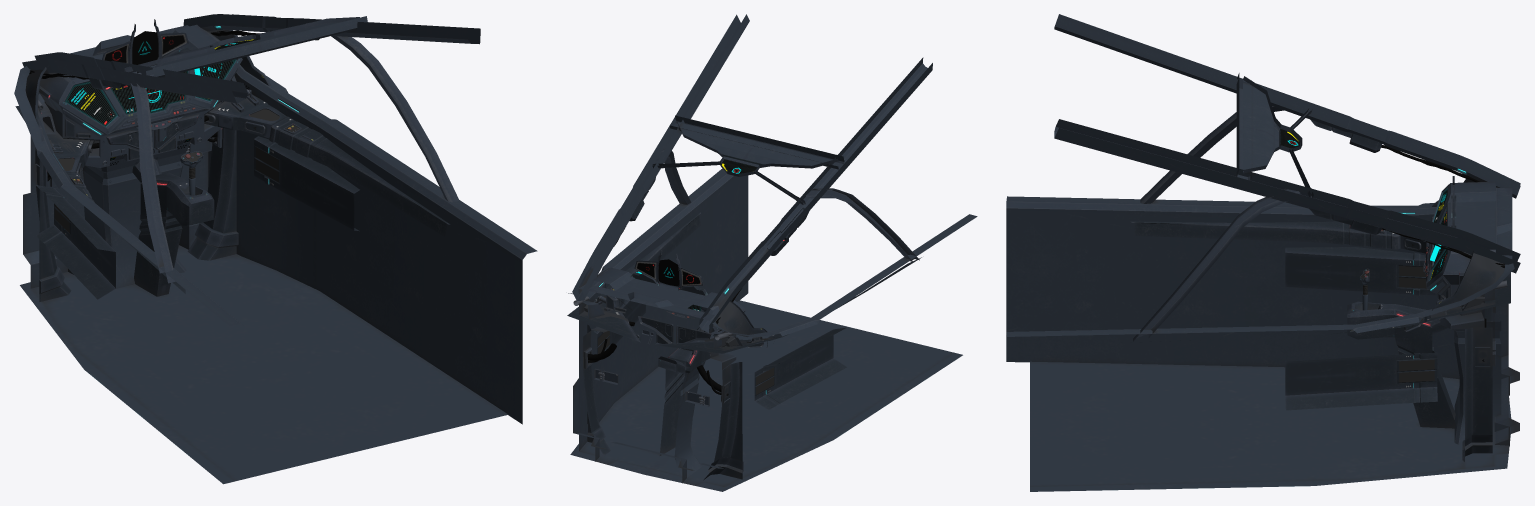
Rendered from cabin-v1.glb.
3 renders of one model, left to right at view 1: azimuth 30°, elevation 25°; view 2: azimuth 150°, elevation 25°; view 3: azimuth 270°, elevation 25°, orthographic. The views are drawn at different scales.
Visible parts, largest first — view 1: cabin, screen; view 2: cabin, screen; view 3: cabin, screen.
Boxes of the visible parts, x1=… form: cabin: x1=14, y1=14, x2=537, y2=484; screen: x1=65, y1=31, x2=259, y2=126; cabin: x1=567, y1=14, x2=977, y2=491; screen: x1=635, y1=159, x2=757, y2=311; cabin: x1=1006, y1=14, x2=1520, y2=491; screen: x1=1280, y1=129, x2=1447, y2=279.
Size of the model in its own units: 1.6 by 1.9 by 2.48.
2 materials, 1 textured.
